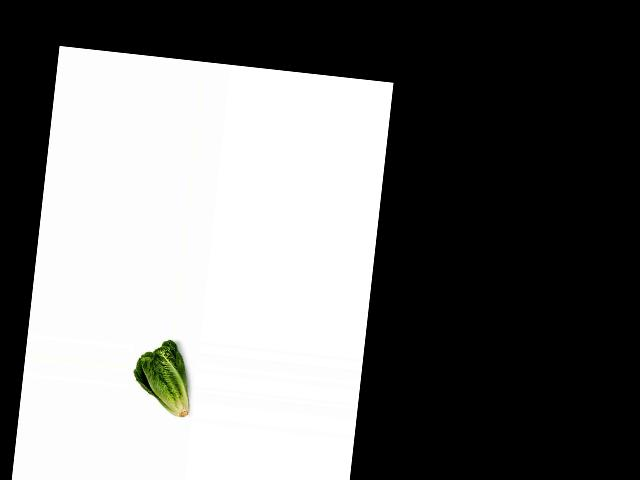lettuce: (129, 336, 198, 423)
